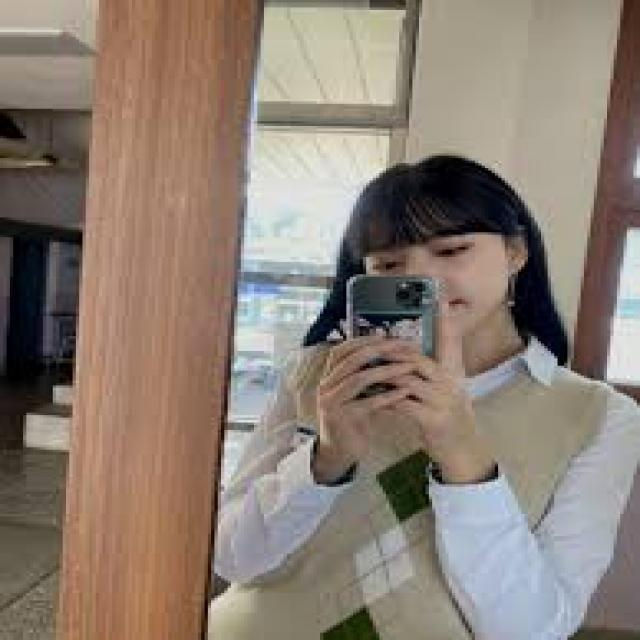Phone: (348, 276, 438, 402)
